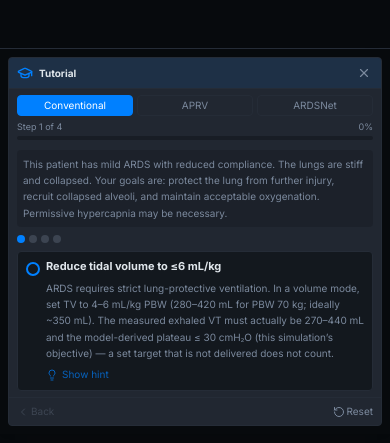
Test: mobile tutorial overlay › keeps APRV tab and step through ARDS → Tutorial → APRV → Settings → Tutorial
Later steps or results of the test are not shown.
Click the tab "APRV". click: (195, 106)
box: [137,95,253,116]
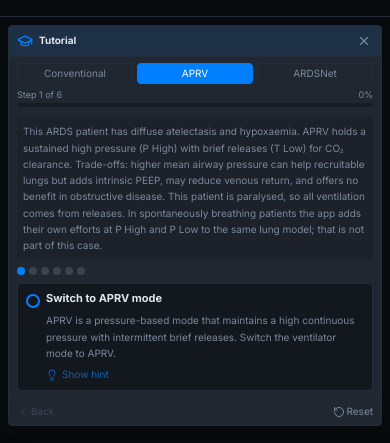
Click the button titled "Step 2". click: (33, 271)
box: [29,267,37,275]
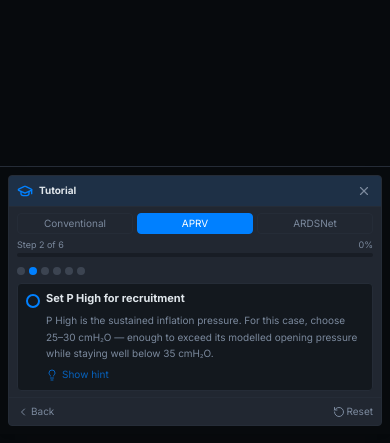
Expected: the text "Step 2 of 6" is shown, [17,238,64,251]
